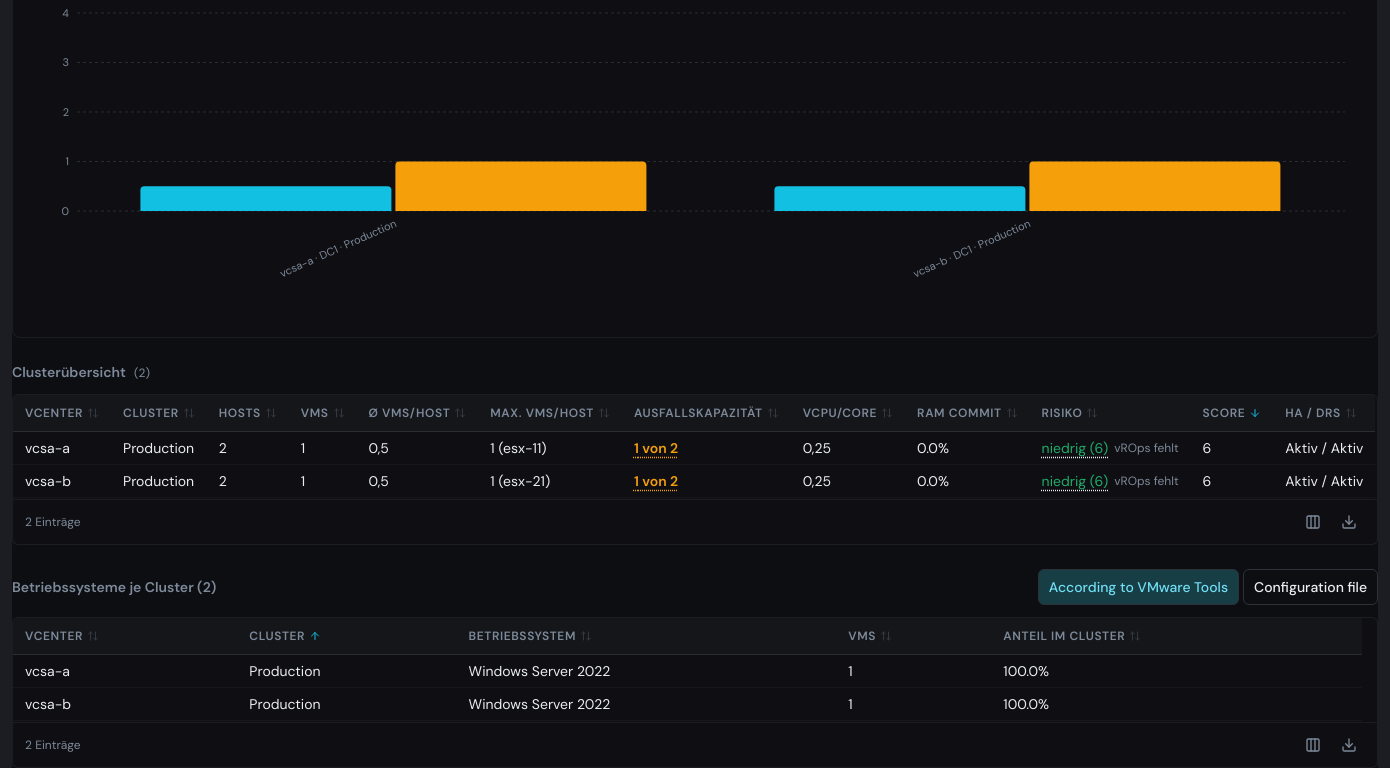
Test case: Clusters › switches the OS source to the configuration file
(page scrolled)
Step 1. Click the radio button labelled "Configuration file" → [1311, 587], box [1243,569,1378,605]
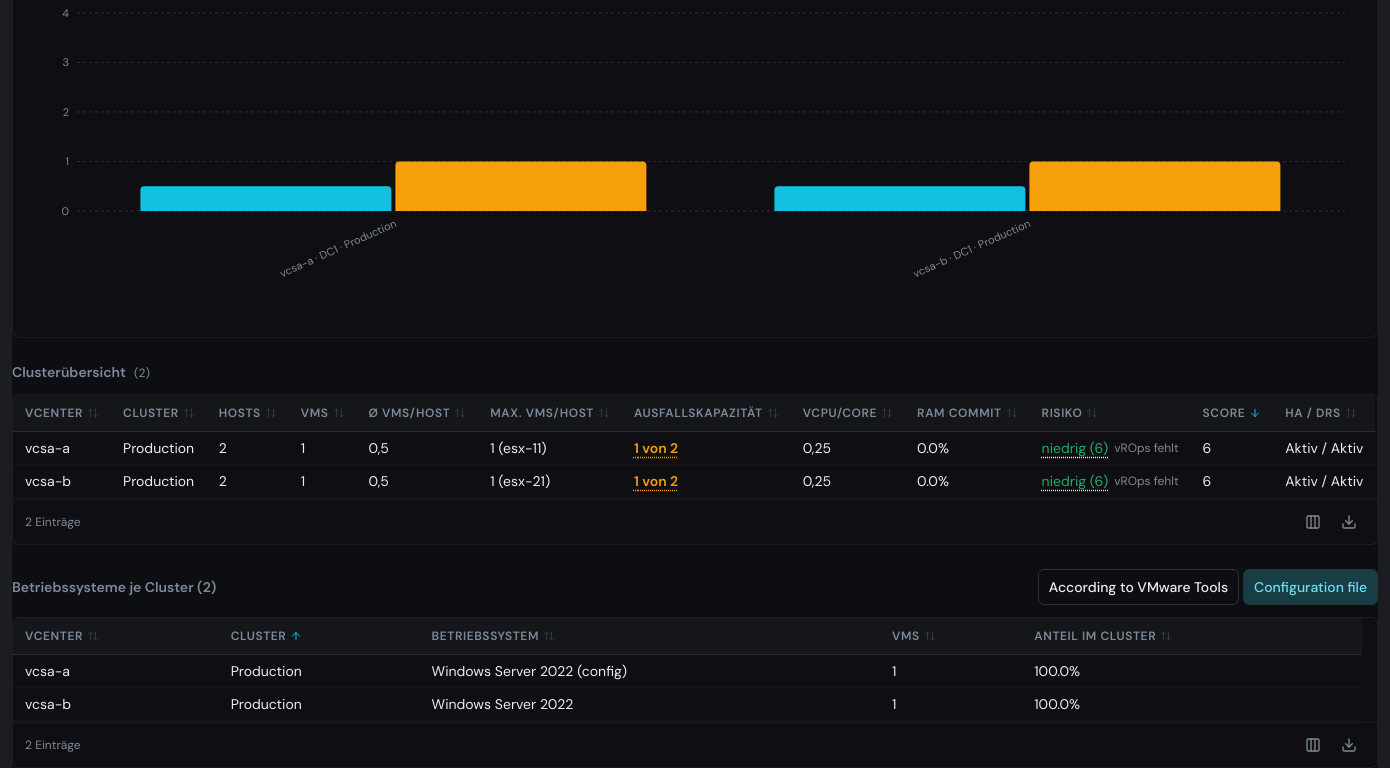
Result: the radio button labelled "Configuration file" is checked at [1243,569,1378,605]
Result: the text "Windows Server 2022 (config)" is shown at [420,654,880,688]
